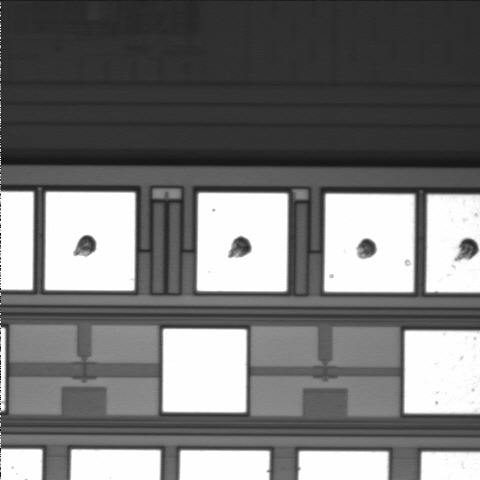pad: (197, 193, 288, 291), (45, 192, 135, 291), (324, 194, 414, 292), (163, 329, 246, 412)
